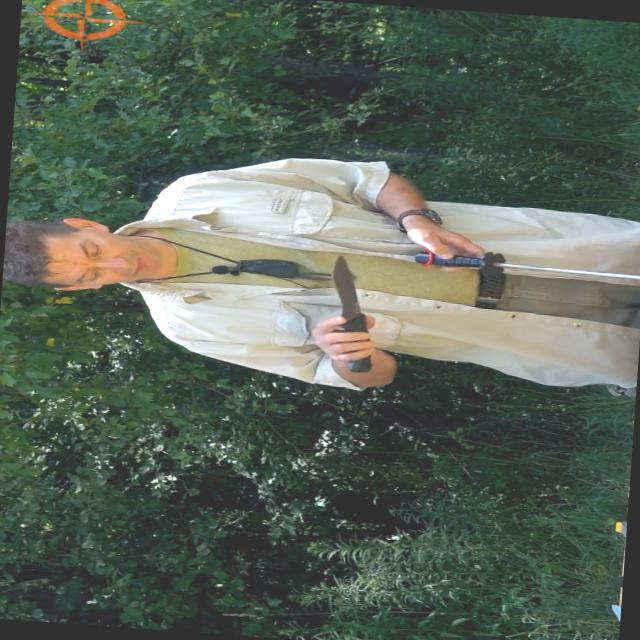knife: (308, 251, 382, 376)
